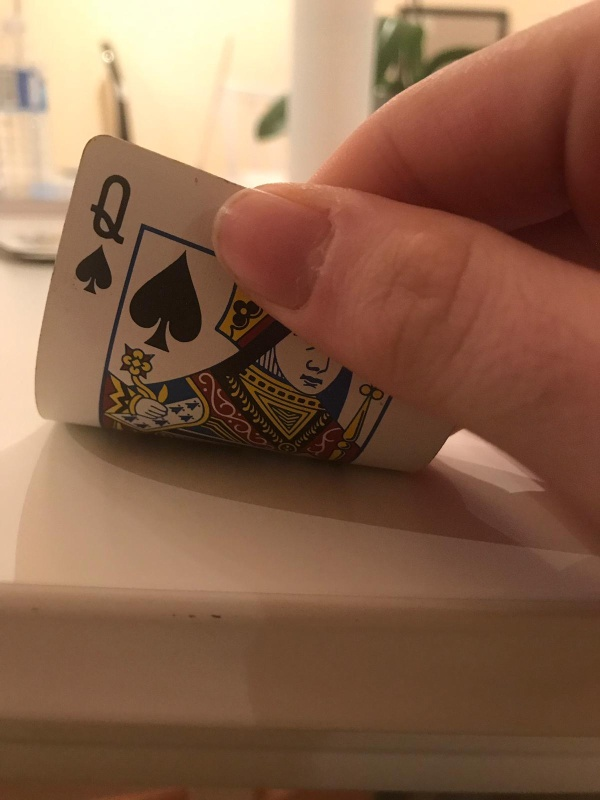Sq: (73, 165, 131, 296)
